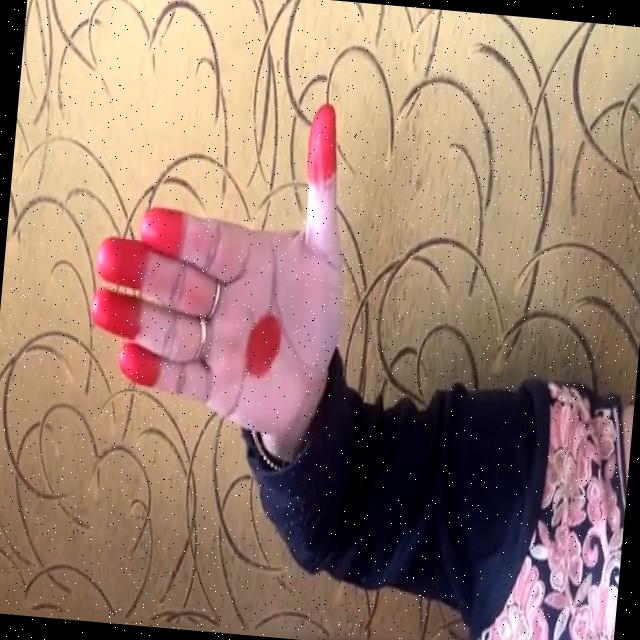Ardhachandra: (77, 50, 398, 452)
